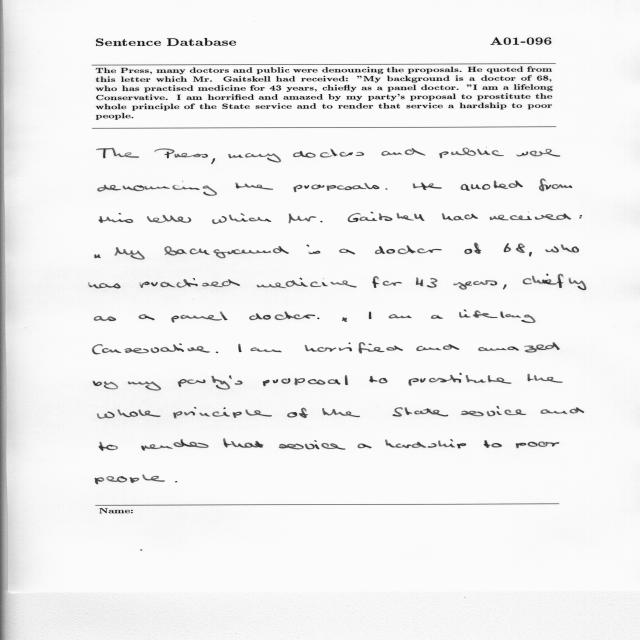word: (164, 246, 289, 258), (409, 373, 512, 386), (98, 185, 217, 196), (93, 343, 210, 354), (173, 407, 272, 418), (305, 343, 403, 354), (523, 274, 586, 290), (140, 278, 240, 288), (257, 278, 357, 288), (459, 310, 535, 323), (178, 375, 243, 390), (263, 375, 348, 386), (478, 343, 560, 353), (141, 439, 209, 451), (385, 439, 466, 449), (294, 183, 380, 192), (348, 212, 424, 222), (95, 474, 165, 484), (171, 311, 228, 323), (461, 180, 523, 191), (279, 440, 345, 450), (439, 148, 504, 158), (461, 407, 526, 417), (212, 213, 271, 224), (293, 149, 364, 158), (375, 245, 442, 254), (249, 312, 316, 321), (97, 410, 161, 419), (490, 214, 571, 221), (393, 407, 448, 417), (154, 149, 208, 159), (228, 153, 281, 162), (454, 280, 498, 290), (97, 148, 139, 158), (539, 179, 572, 191), (504, 243, 532, 257), (223, 439, 264, 448), (115, 247, 145, 259), (372, 276, 402, 288), (382, 148, 426, 156), (517, 149, 561, 157), (147, 215, 191, 223), (322, 408, 360, 417), (99, 213, 133, 223), (289, 214, 323, 224), (528, 374, 563, 383), (416, 344, 459, 351), (541, 407, 584, 414), (516, 442, 559, 449), (128, 382, 161, 391), (236, 182, 273, 190), (442, 213, 478, 221), (416, 277, 438, 288), (413, 182, 442, 190), (93, 381, 118, 390), (287, 408, 308, 418), (89, 283, 121, 289), (465, 243, 482, 254), (99, 442, 118, 451), (561, 244, 579, 253), (251, 348, 282, 353), (484, 440, 502, 448), (307, 245, 321, 255), (369, 376, 388, 383), (94, 316, 116, 321), (389, 314, 411, 319), (545, 246, 559, 253), (339, 249, 355, 255), (139, 314, 155, 320), (358, 444, 372, 449), (431, 315, 443, 319), (238, 344, 242, 352), (342, 317, 347, 322), (211, 158, 215, 164), (95, 255, 101, 259), (369, 312, 372, 319), (503, 285, 506, 290), (579, 215, 582, 219), (386, 188, 388, 190), (216, 352, 219, 353), (318, 318, 320, 319), (175, 481, 177, 482)
